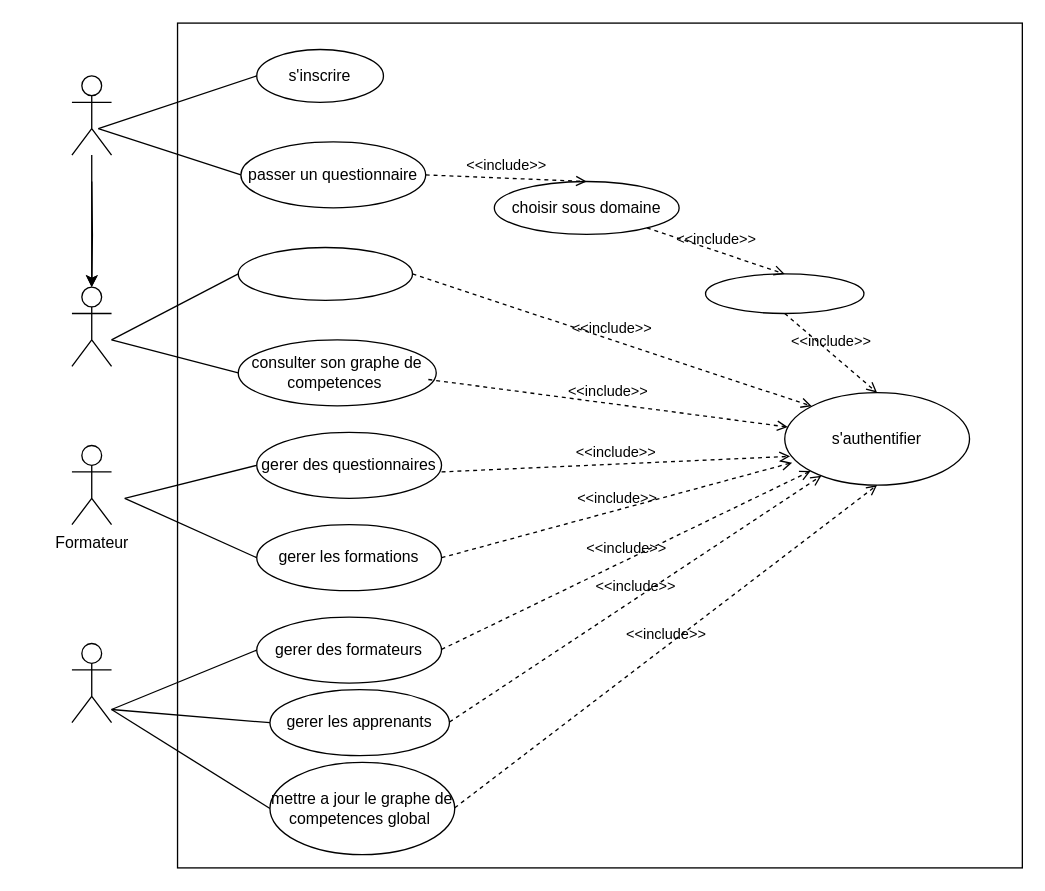
The diagram is 1045 pixels wide and 891 high, and some of its shapes have lost their labels. The shapes that lost their labels are listed below. From the top down, each one's box as (x1, y1, x2, y2) in pixels, then its label:
(71, 75, 112, 155): Nouveau apprenant
(237, 246, 412, 300): suivre une formation
(704, 273, 864, 314): chioisir le domaine
(71, 286, 112, 366): apprenant
(71, 642, 112, 723): Admin
